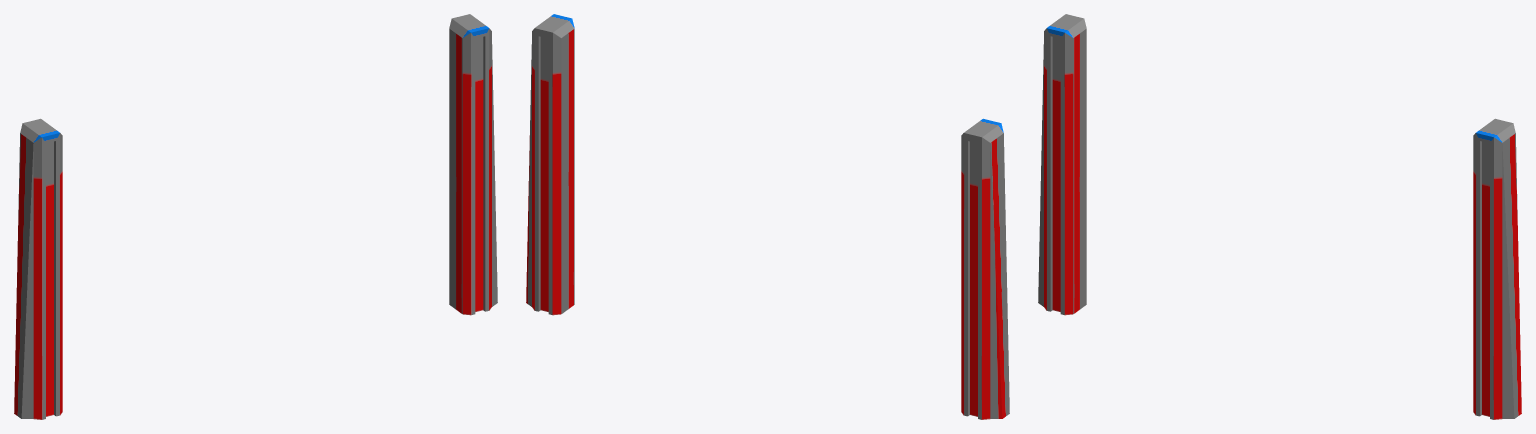
Rendered from Wall_Solid.fbx.
3 views of the same model, side by side, from view 1: azimuth 30°, elevation 25°; view 2: azimuth 150°, elevation 25°; view 3: azimuth 330°, elevation 25° (orthographic).
Visible parts, largest first — view 1: Solid; view 2: Solid; view 3: Solid.
Boxes of the visible parts, <box> form: Solid: <box>14,14,497,419</box>; Solid: <box>526,14,1009,419</box>; Solid: <box>1038,14,1521,419</box>.
Bounding box in the file's own units: 1190 × 675 × 83.58.
Materials: 1 (1 with a texture image).
